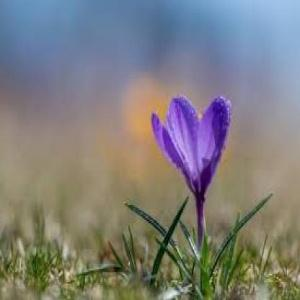Saffron: (150, 94, 232, 205)
